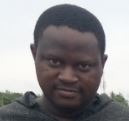without_facemask: (43, 71, 107, 113)
